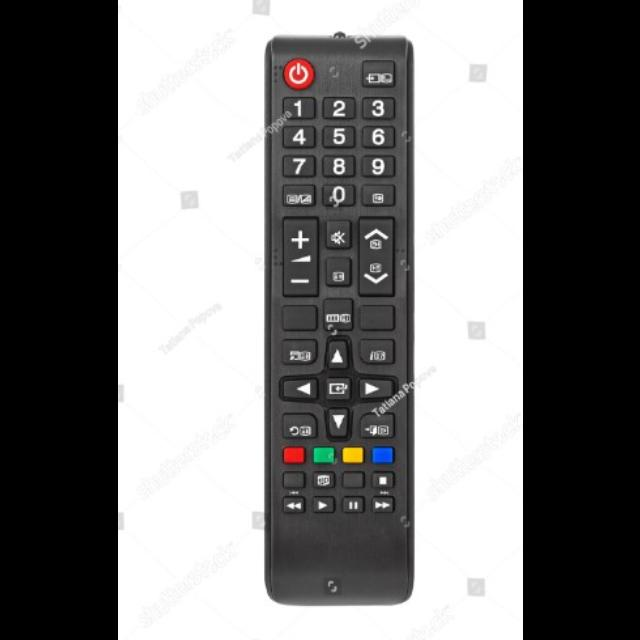TV-Remote-Control: (262, 33, 415, 609)
